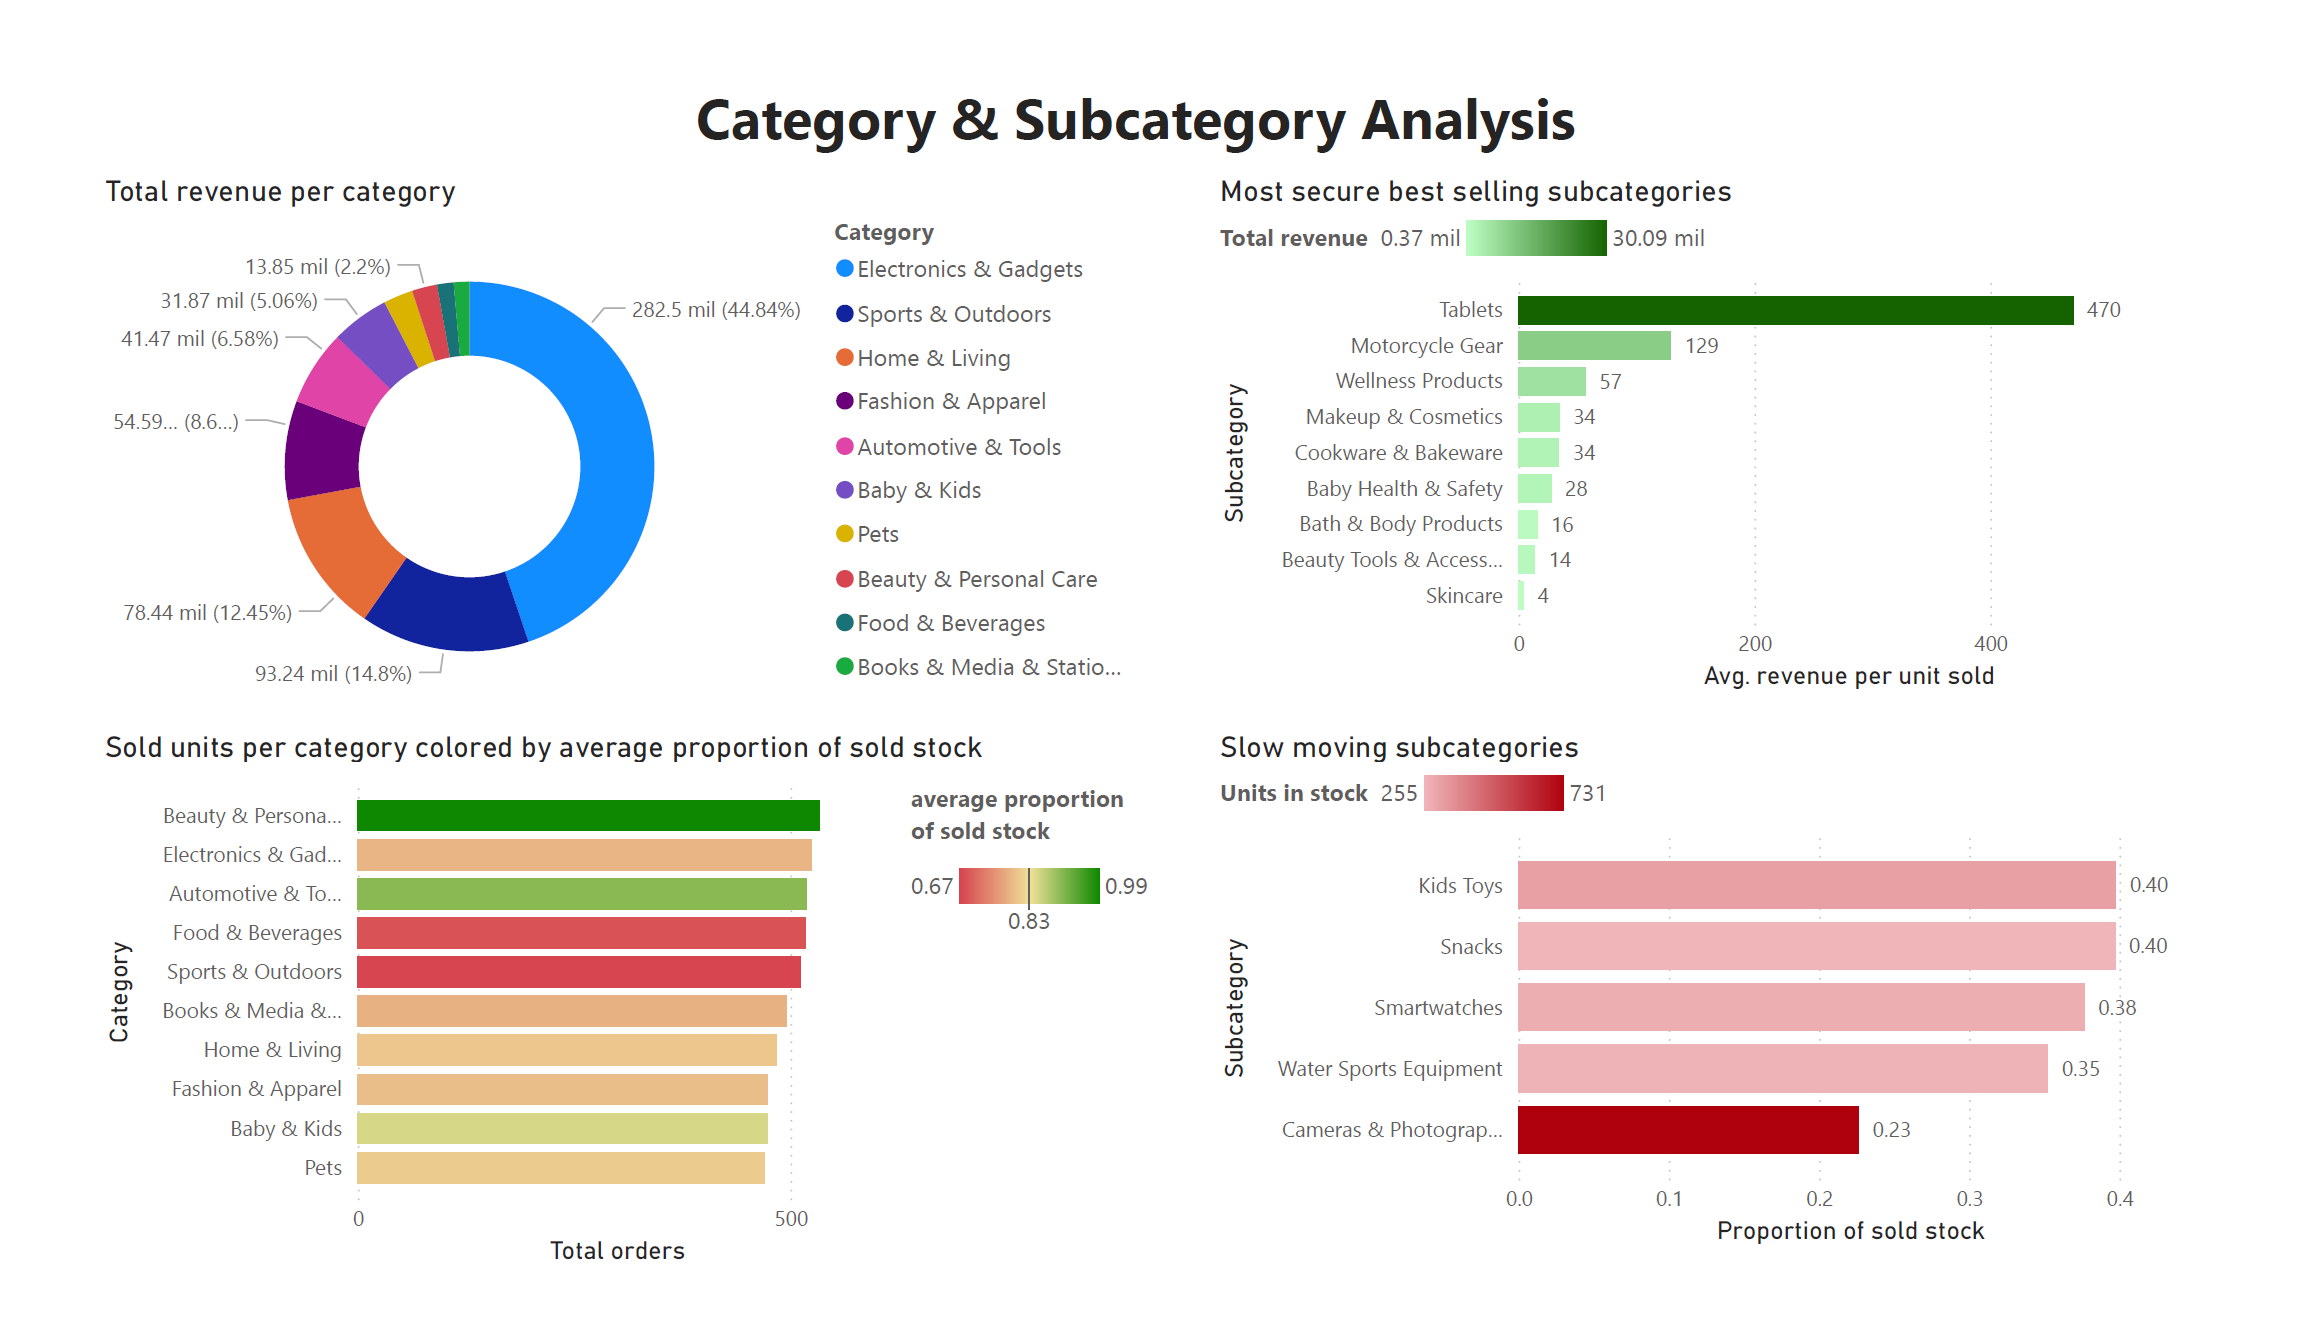

The page's visual inventory and layout, read from the dashboard file:
{"tool":"powerbi","page":{"name":"category & subcategory analysis","canvas":[1280,720],"ordinal":0},"visuals":[{"type":"donutChart","title":"Total revenue per category","fields":{"Category":["online_store cat_sub_sales_performace.category"],"Y":["Sum(online_store cat_sub_sales_performace.revenue)"]},"box":[31.4,75.7,607.1,317.1],"z":0},{"type":"textbox","box":[337.5,16.2,577.5,60],"z":1000},{"type":"barChart","title":"Most secure best selling subcategories","fields":{"Category":["online_store cat_sub_sales_performace.subcategory"],"Y":["Sum(online_store cat_sub_sales_performace.avg_rev_per_order)"]},"box":[670,75.7,570,300],"z":2000},{"type":"barChart","title":"Slow moving subcategories","fields":{"Category":["online_store cat_sub_sales_performace.subcategory"],"Y":["Sum(online_store cat_sub_sales_performace.prop_stock_sold)"]},"box":[670,393.8,570,300],"z":3000},{"type":"clusteredBarChart","title":"Sold units per category colored by average proportion of sold stock","fields":{"Category":["online_store origin_of_orders_cat_subcat.category"],"Y":["Sum(online_store origin_of_orders_cat_subcat.n_orders)"]},"box":[31.2,393.8,607.5,312.5],"z":4000}]}

Visuals, with their boxes in screenshot pixels (x1, y1, x2, y2), scaled from the page's 1280x720 canvas onto the 2312x1336 screenshot:
"Total revenue per category" donutChart: bbox(57, 140, 1153, 729)
textbox: bbox(610, 30, 1653, 141)
"Most secure best selling subcategories" barChart: bbox(1210, 140, 2240, 697)
"Slow moving subcategories" barChart: bbox(1210, 731, 2240, 1287)
"Sold units per category colored by average proportion of sold stock" clusteredBarChart: bbox(56, 731, 1154, 1311)
